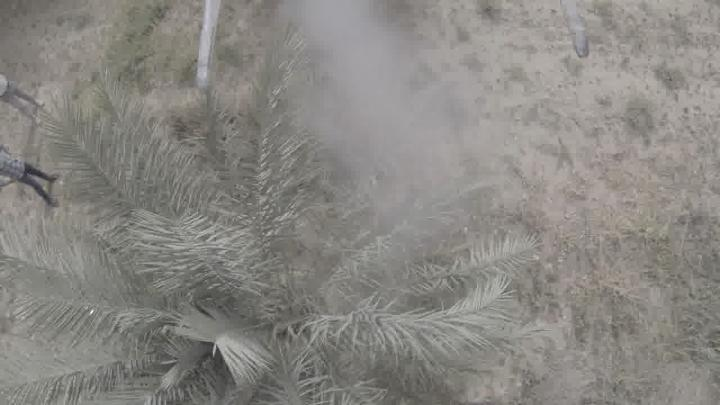Date-Palm-Crown: (76, 140, 388, 404)
